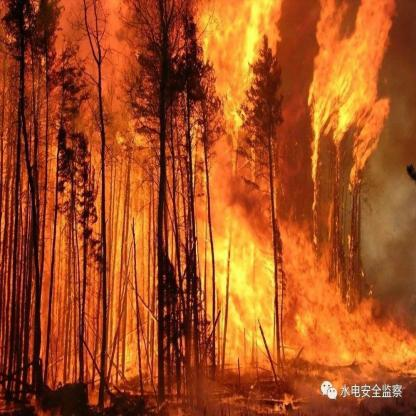fire: (8, 3, 411, 384)
